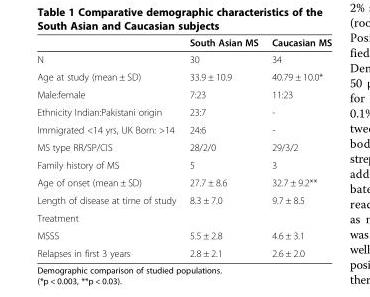table: (36, 36, 331, 258)
table column: (36, 36, 182, 258), (182, 36, 264, 258), (264, 36, 331, 258)
table column header: (36, 36, 331, 50)
table projected row header: (36, 208, 331, 226)
table row: (36, 67, 331, 85), (36, 102, 331, 120), (36, 120, 331, 138), (36, 155, 331, 173), (36, 173, 331, 191), (36, 208, 331, 226), (36, 226, 331, 244), (36, 50, 331, 67), (36, 85, 331, 102), (36, 138, 331, 155), (36, 191, 331, 208), (36, 36, 331, 50), (36, 244, 331, 258)
